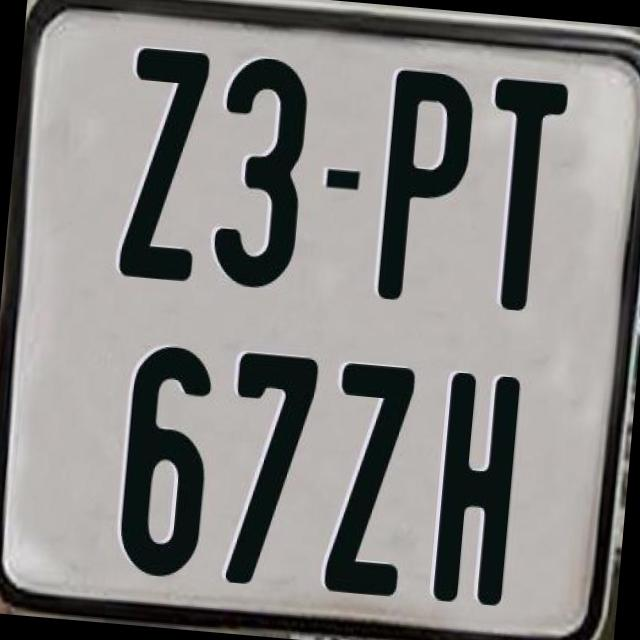3: (206, 53, 312, 292)
6: (114, 341, 217, 584)
7: (216, 346, 320, 590)
H: (432, 369, 530, 606)
P: (376, 68, 476, 312)
T: (472, 73, 572, 318)
Z: (115, 43, 211, 283), (320, 357, 412, 594)
